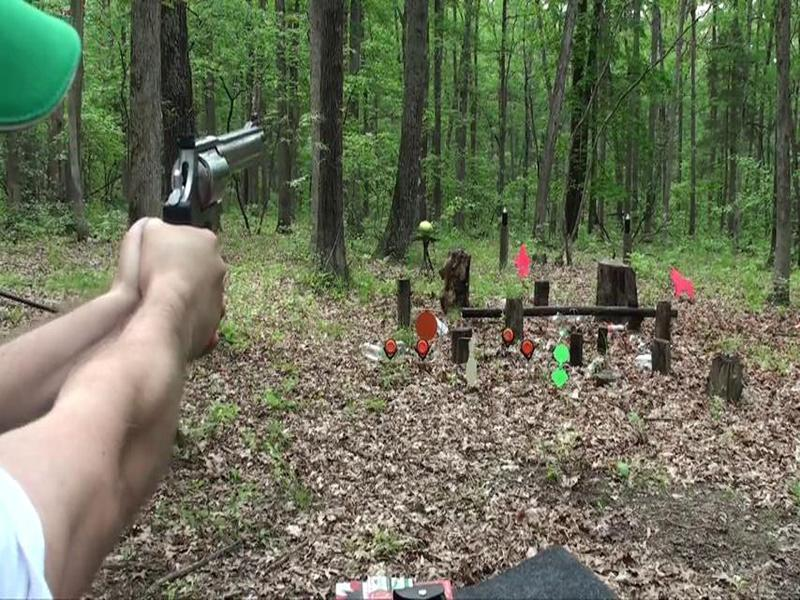Revolver: (161, 98, 287, 278)
